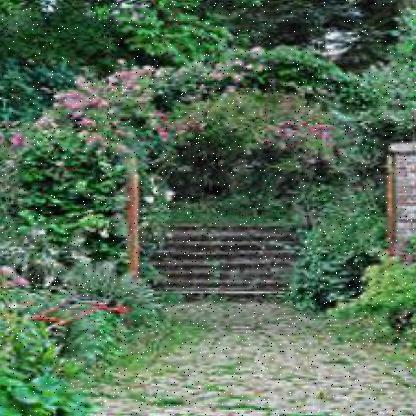stair_up: (133, 200, 312, 308)
